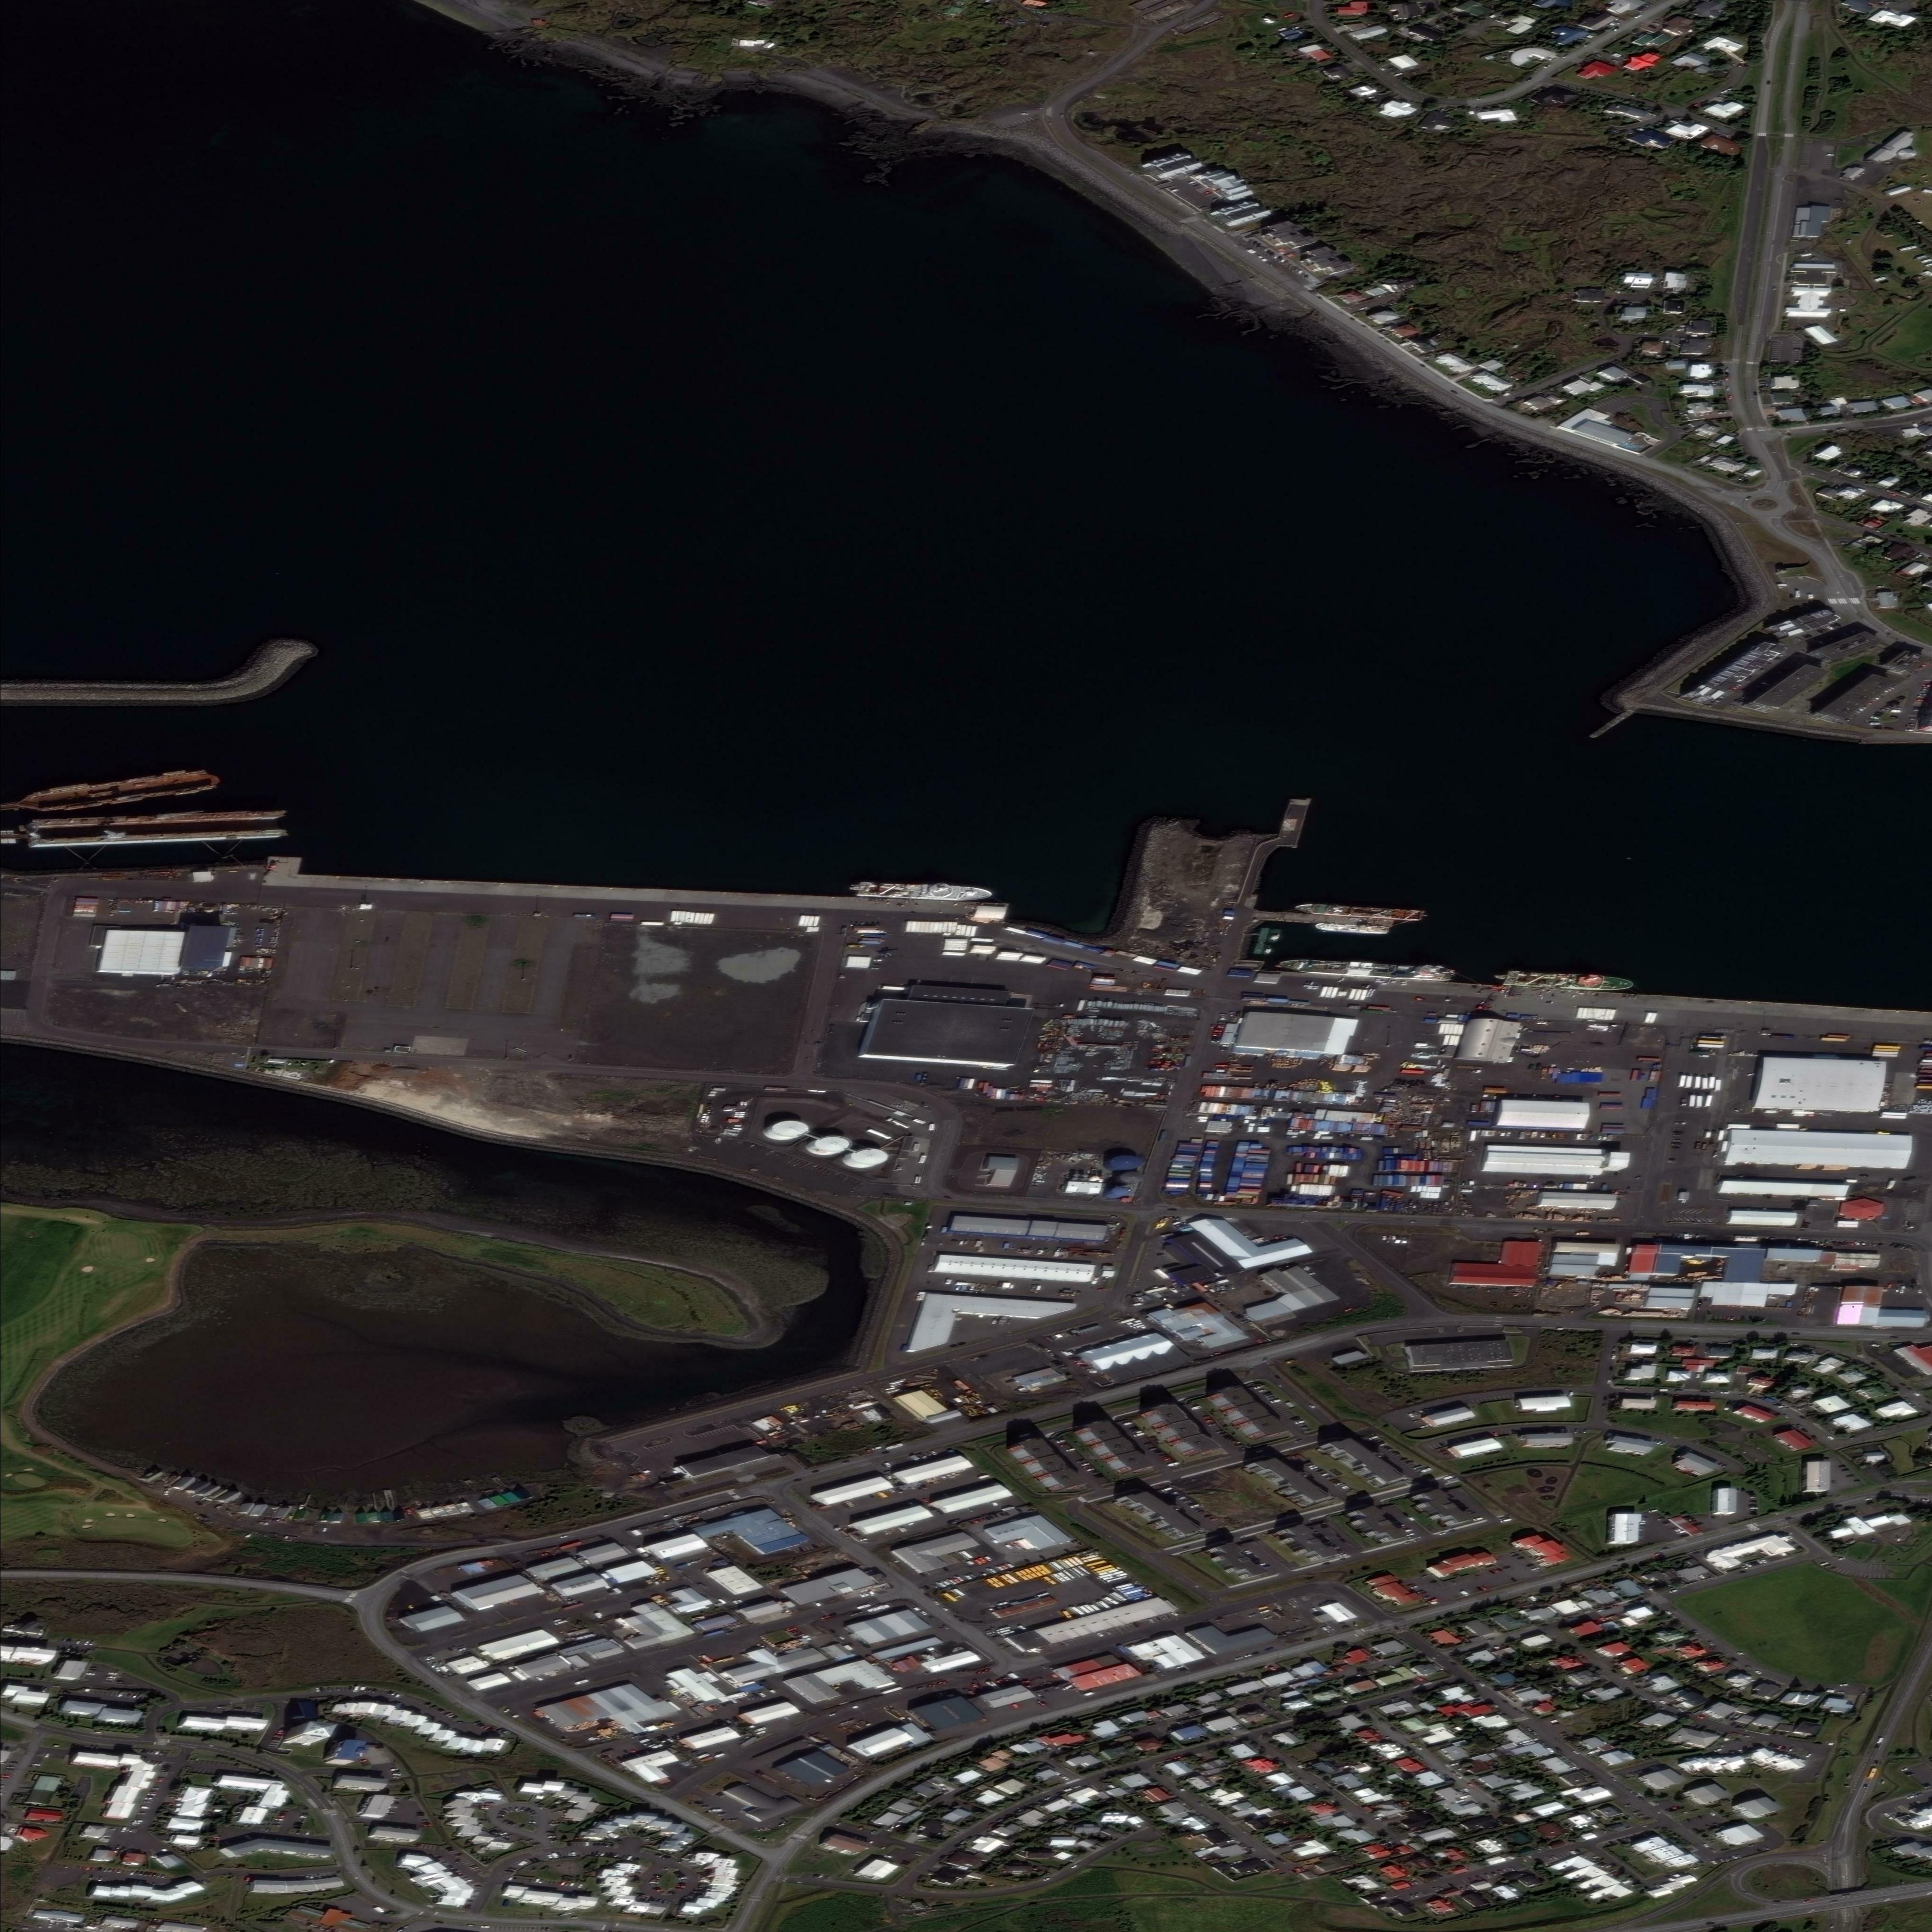harbor: (1238, 797, 1311, 915), (1589, 710, 1634, 740)
ship: (14, 766, 222, 818), (1277, 957, 1456, 982), (851, 882, 993, 903), (1493, 970, 1634, 990), (1295, 902, 1429, 923), (1315, 922, 1390, 935), (1169, 1286, 1179, 1294)
